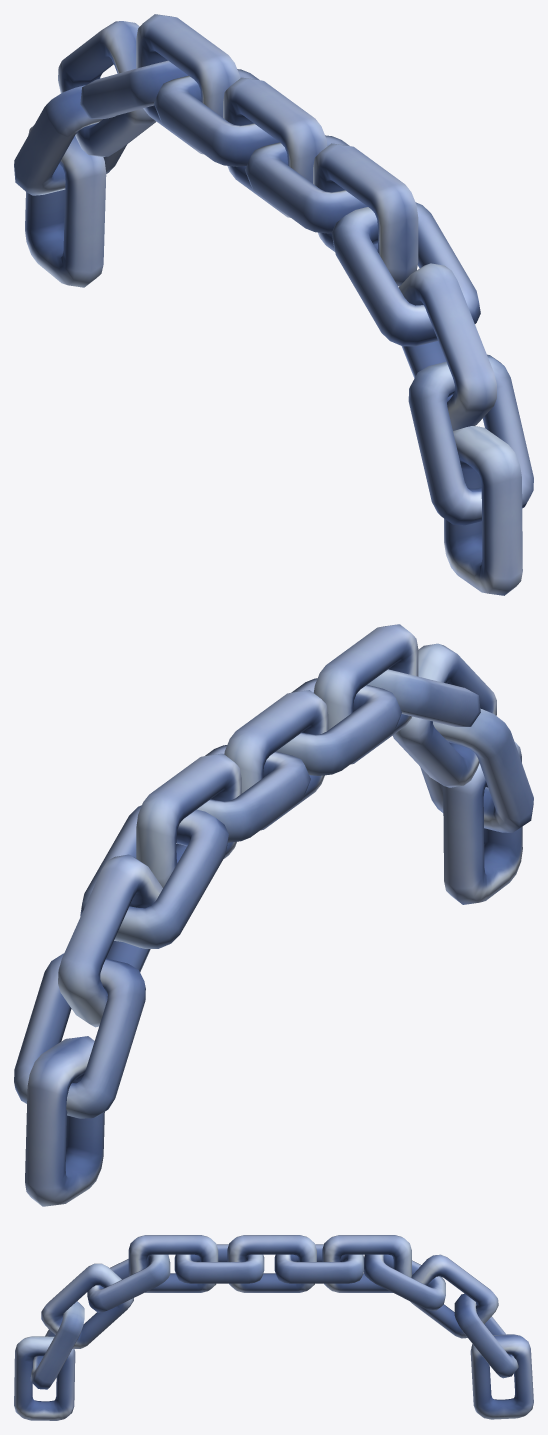
Rendered from chain_1.fbx.
The picture shows the model from 3 angles, top to bottom: view 1: azimuth 30°, elevation 25°; view 2: azimuth 150°, elevation 25°; view 3: azimuth 270°, elevation 25°; orthographic projection. The views are drawn at different scales.
Visible parts, largest first — view 1: chain_1; view 2: chain_1; view 3: chain_1.
Boxes of the visible parts, x1,y1,x2,y2 form: chain_1: (14, 14, 533, 595); chain_1: (14, 624, 533, 1206); chain_1: (14, 1235, 533, 1420).
Bounding box in the file's own units: 0.1704 × 0.5689 × 1.47.
